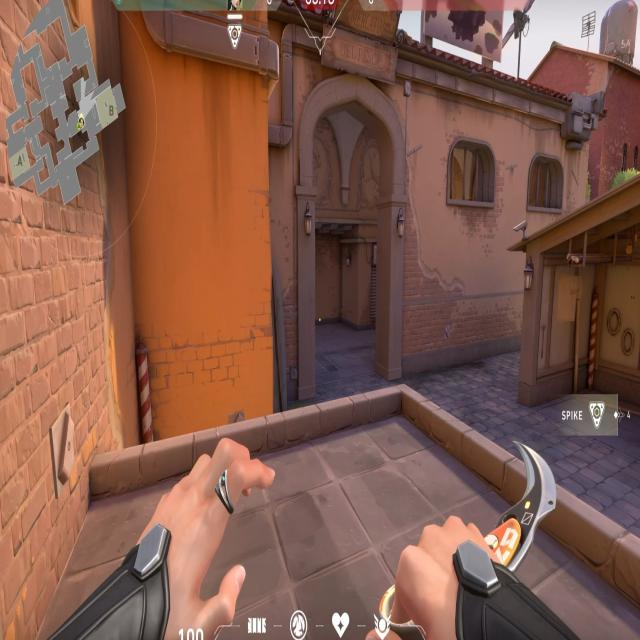B_Garage_Left: (520, 236, 640, 424)
Throwables: (444, 133, 498, 215), (523, 144, 567, 217)
